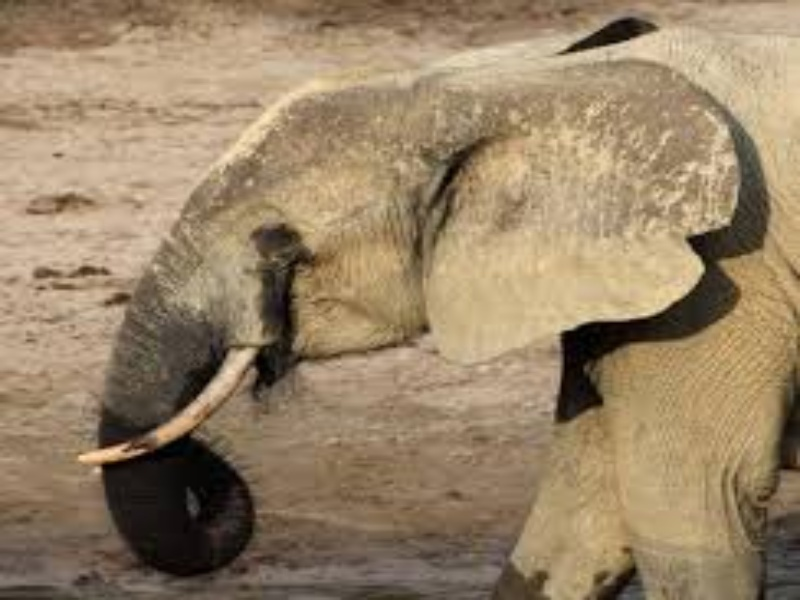elephant: (69, 1, 800, 600)
